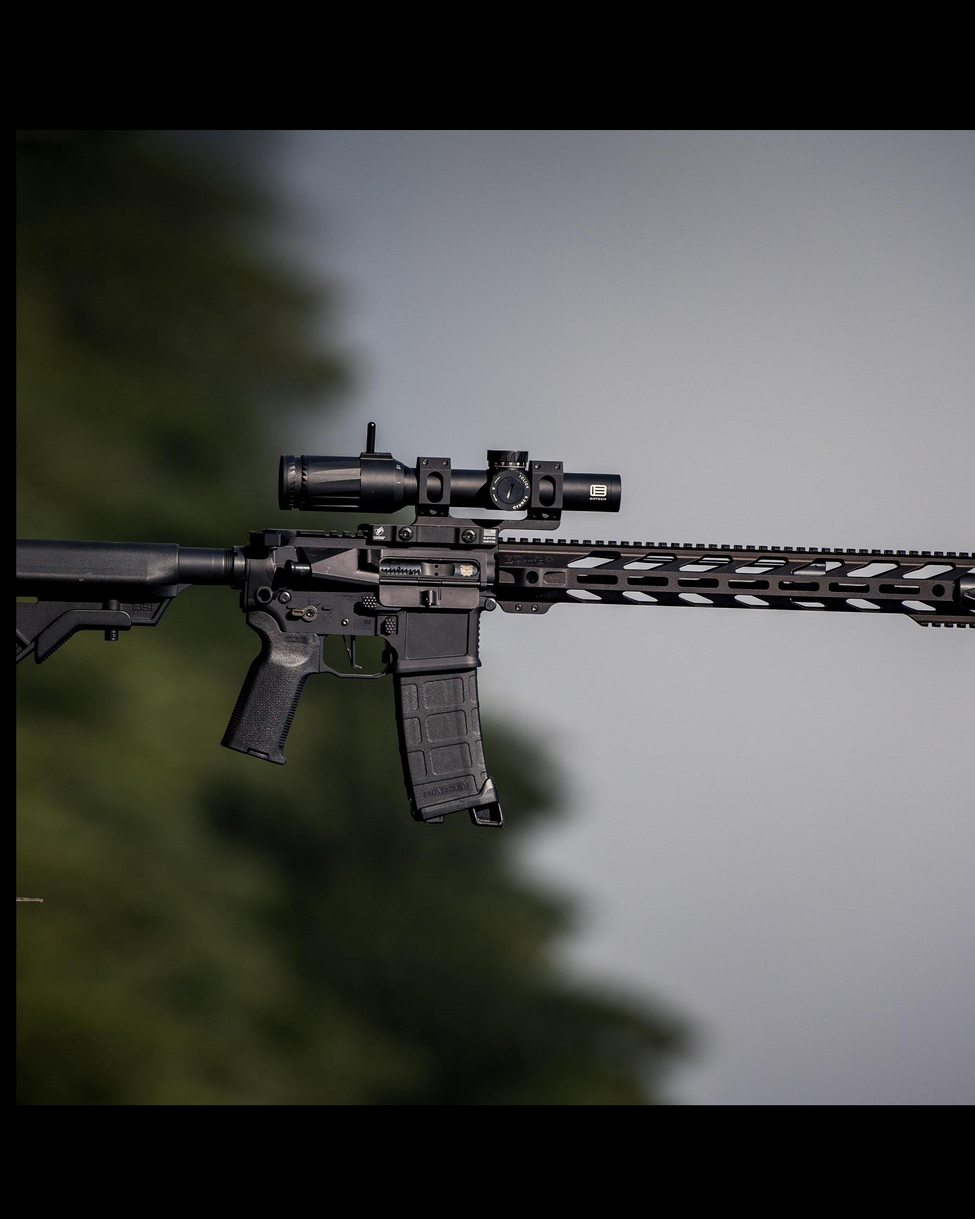larga: (13, 421, 975, 832)
